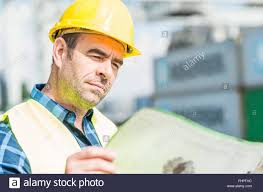Person_wearing_helmet: (47, 0, 145, 64)
